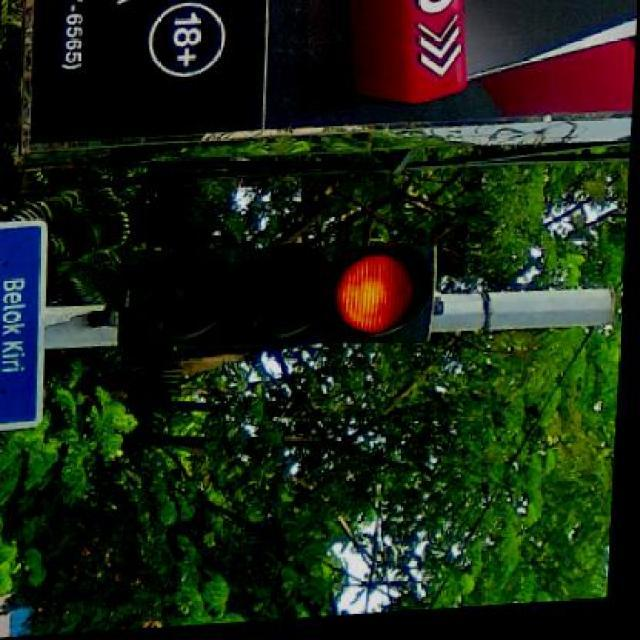traffic light: (331, 243, 435, 343)
